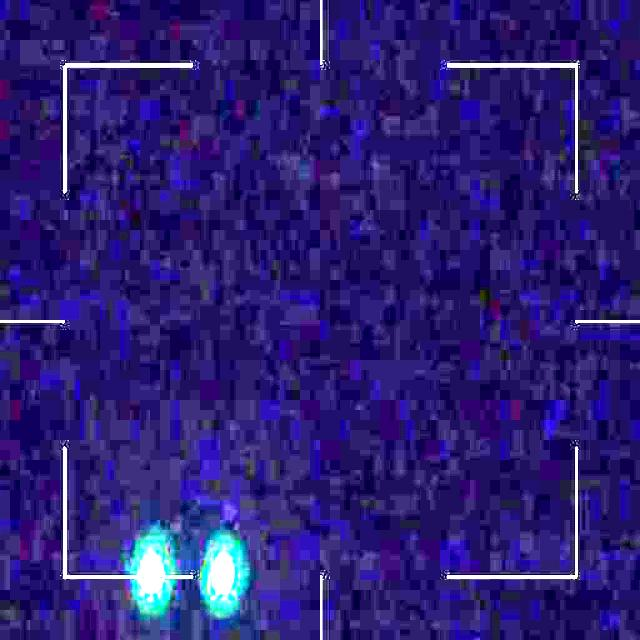bird: (138, 546, 236, 602)
